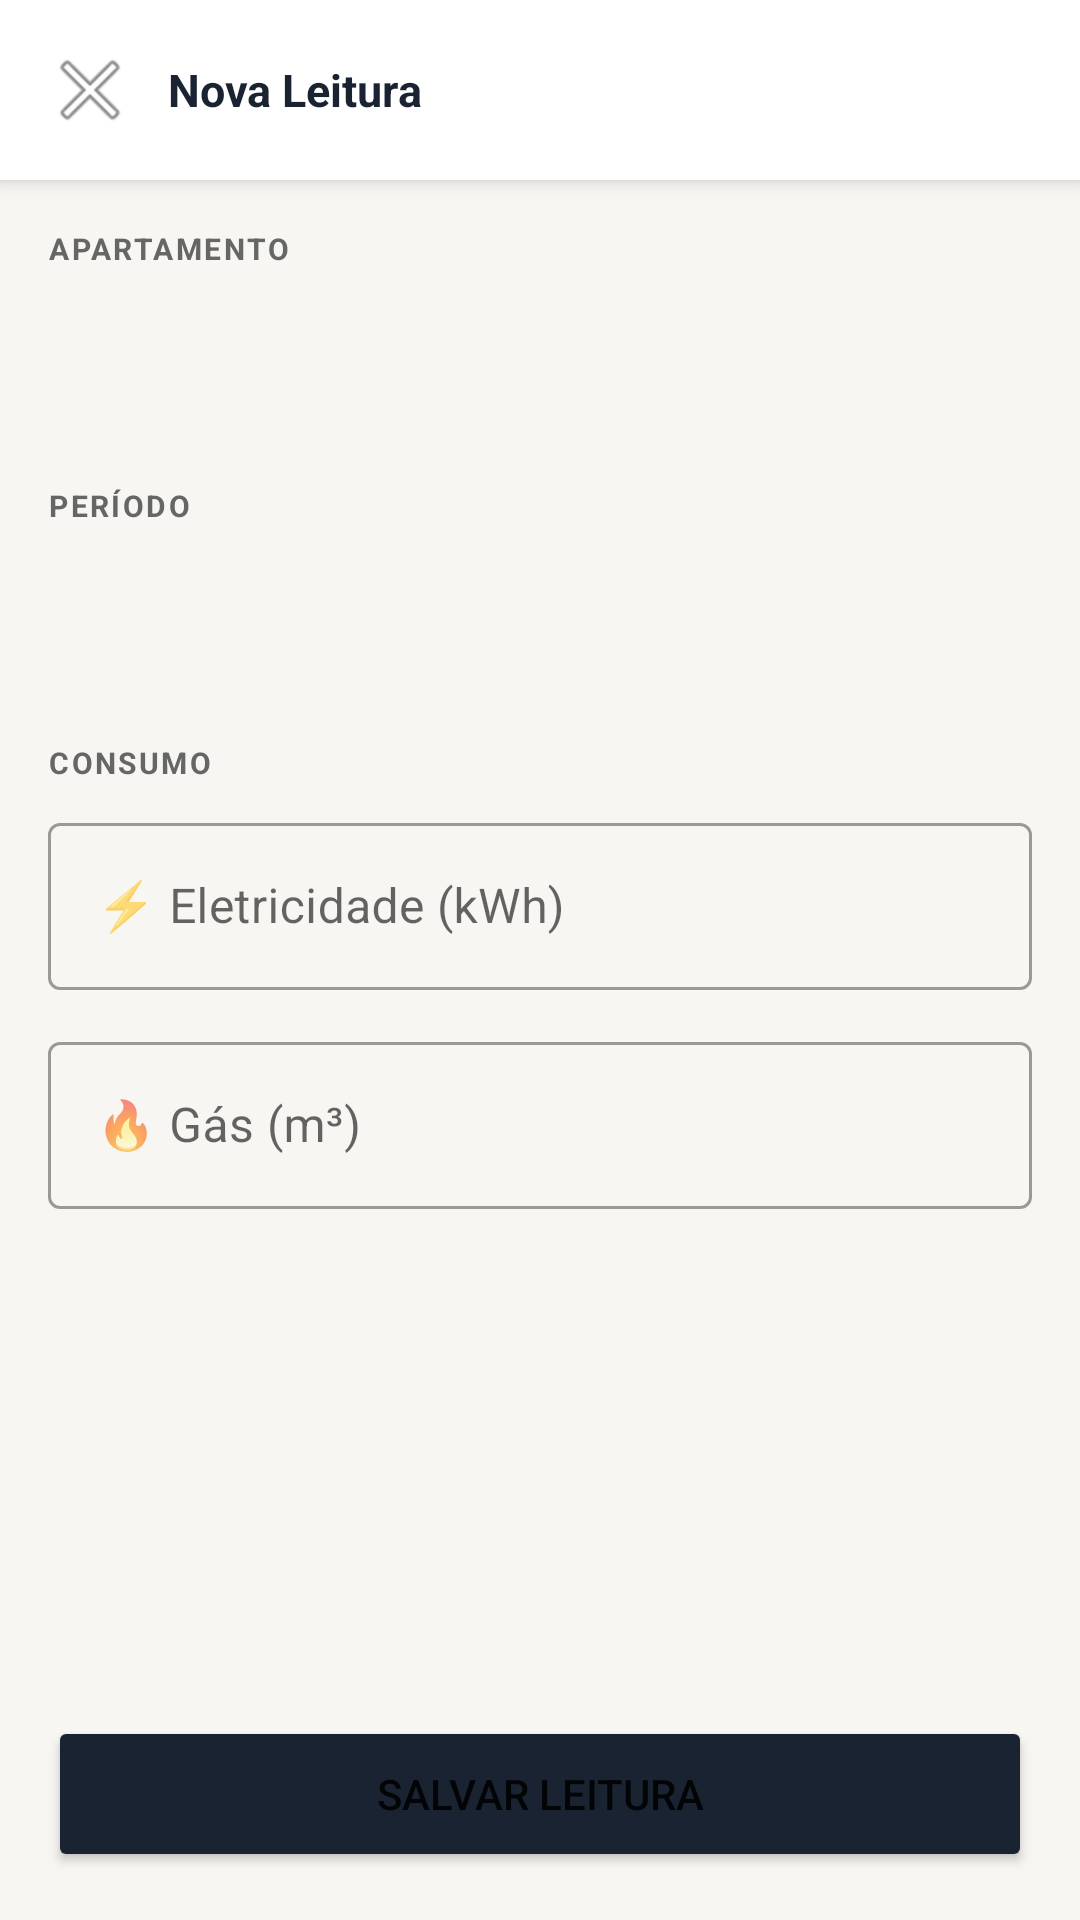

Icons on this 1080w x 1920h Android screen, each with the point to tap as [x,y]:
close clear cancel: [90,90]
